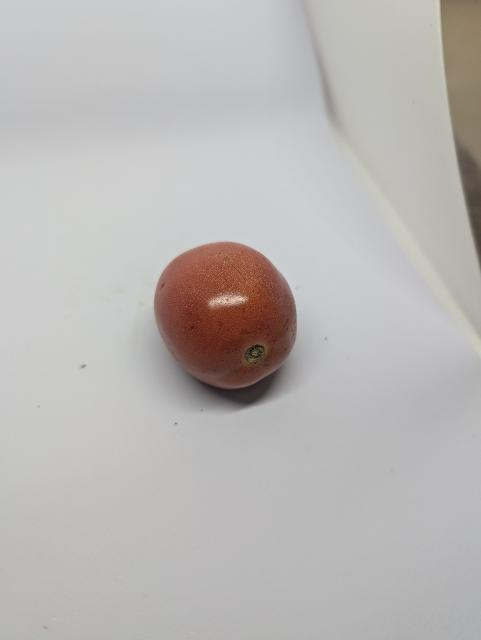red: (150, 236, 308, 405)
